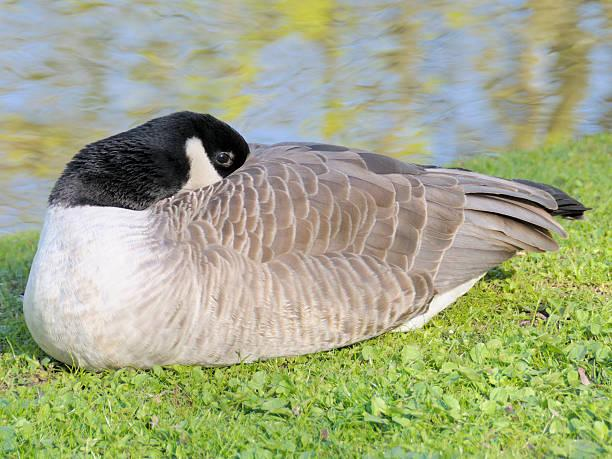Canadian-Goose: (19, 108, 567, 382)
